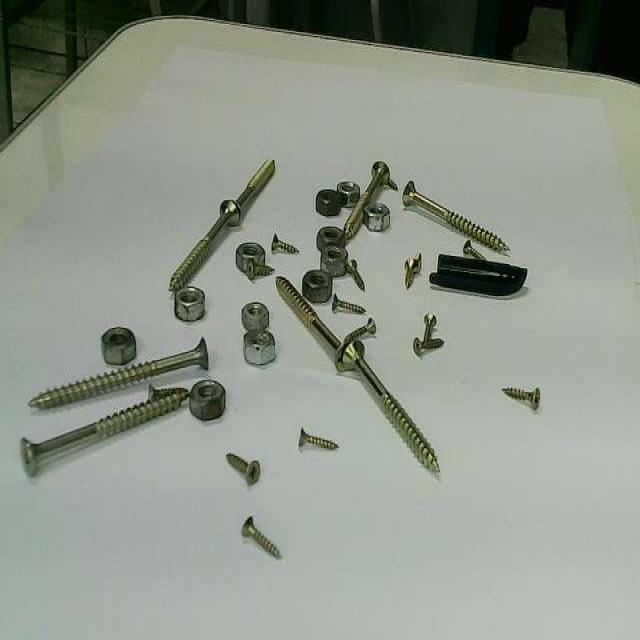Parafuso: (21, 392, 186, 474), (347, 344, 441, 475), (32, 340, 208, 405), (403, 182, 508, 251), (276, 279, 341, 365), (349, 164, 387, 231), (241, 516, 280, 558), (413, 312, 443, 357), (226, 454, 259, 485), (502, 387, 539, 410), (298, 428, 337, 449), (343, 318, 376, 342), (332, 294, 365, 314), (404, 254, 421, 289), (147, 385, 186, 399), (347, 259, 364, 290), (271, 234, 298, 253), (414, 338, 443, 355), (246, 262, 273, 279), (463, 240, 485, 259)
Porca: (189, 380, 225, 419), (101, 327, 136, 365), (244, 330, 275, 365), (174, 287, 204, 322), (302, 270, 332, 302), (235, 242, 264, 273), (241, 302, 268, 330), (321, 246, 347, 275), (316, 190, 341, 217), (316, 227, 344, 250), (336, 182, 359, 207)
